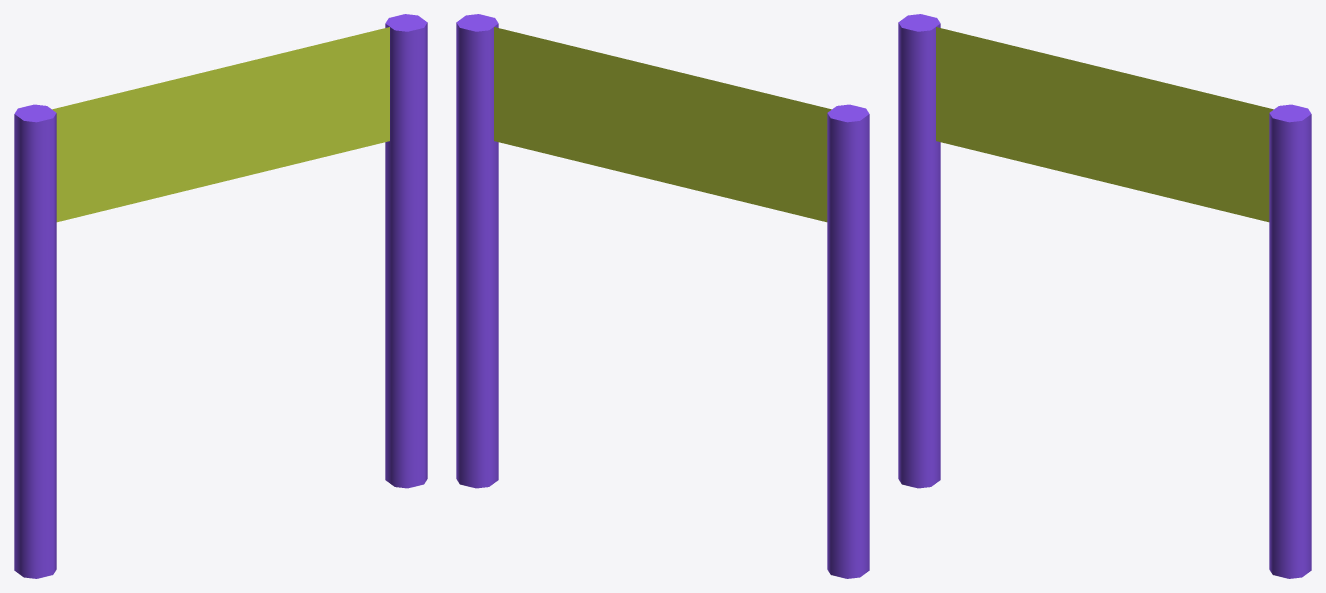
Rendered from banner_high.fbx.
3 views of the same model, side by side, from view 1: azimuth 30°, elevation 25°; view 2: azimuth 150°, elevation 25°; view 3: azimuth 330°, elevation 25° (orthographic).
Parts seen in each view (by area): view 1: banner_high; view 2: banner_high; view 3: banner_high.
Boxes of the visible parts, box(x1,y1,x2,y2) form: banner_high: box(14, 14, 427, 578); banner_high: box(456, 14, 869, 578); banner_high: box(898, 14, 1311, 578).
Bounding box in the file's own units: 9.25 × 10 × 0.75.
